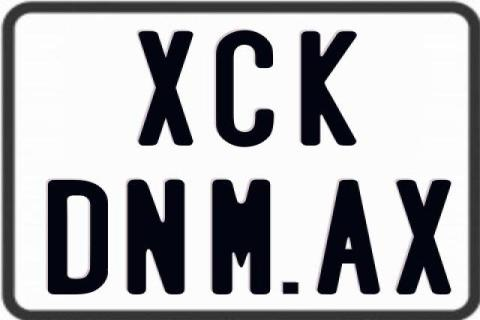A: (314, 178, 382, 294)
C: (215, 31, 273, 151)
D: (45, 178, 109, 294)
K: (301, 30, 360, 148)
M: (212, 177, 272, 293)
N: (128, 177, 190, 297)
X: (136, 31, 197, 147), (395, 179, 451, 295)
